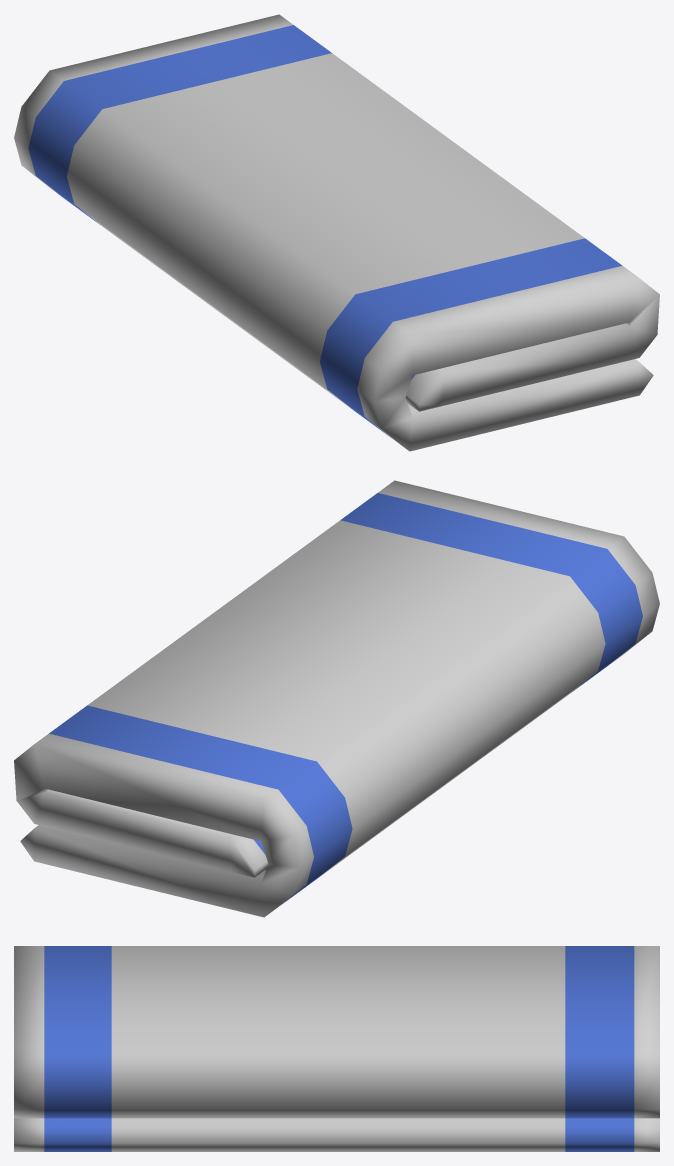
Rendered from rag.fbx.
The picture shows the model from 3 angles, top to bottom: view 1: azimuth 30°, elevation 25°; view 2: azimuth 150°, elevation 25°; view 3: azimuth 270°, elevation 25°; orthographic projection. The views are drawn at different scales.
Visible parts, largest first — view 1: Rag; view 2: Rag; view 3: Rag.
Boxes of the visible parts, left/top/right/bottom form: Rag: left=14, top=14, right=659, bottom=451; Rag: left=14, top=480, right=659, bottom=917; Rag: left=14, top=946, right=659, bottom=1151.
Size of the model in its own units: 0.214 by 0.084 by 0.4673.
